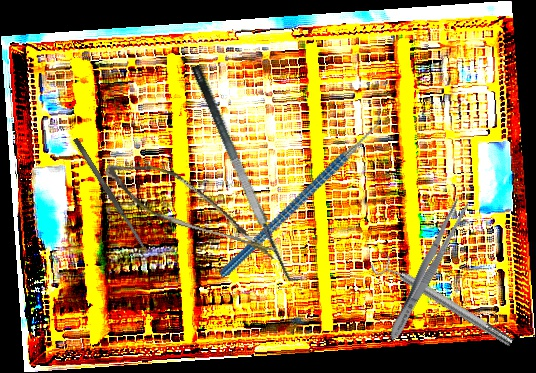Chopper: (183, 103, 421, 278)
Dressing Forceps: (383, 196, 472, 344)
Fixation Ring: (368, 248, 518, 355)
Micro Scissor: (94, 154, 292, 260)
Spatula Surgical: (188, 56, 309, 289), (72, 136, 147, 251)
